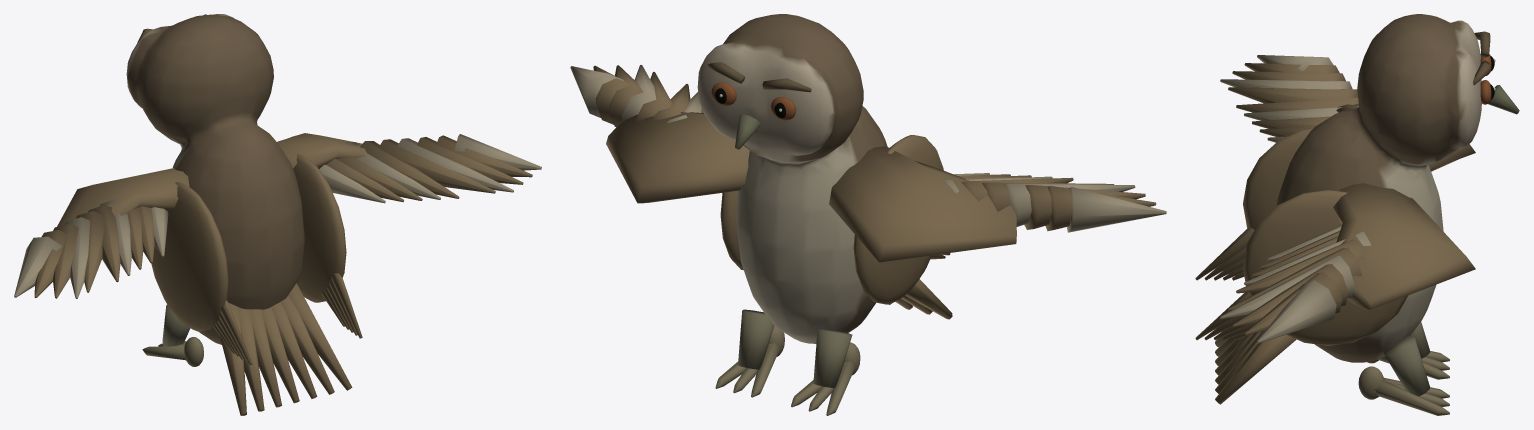
The model's file is animal_europeanowl.glb.
3 renders of one model, left to right at view 1: azimuth 30°, elevation 25°; view 2: azimuth 150°, elevation 25°; view 3: azimuth 270°, elevation 25°, orthographic. The views are drawn at different scales.
Visible parts, largest first — view 1: Body, FoldedWings, WingL, WingR, LegFL; view 2: Body, WingL, WingR, FoldedWings, LegFL, LegFR; view 3: Body, WingR, FoldedWings, WingL, LegFR, LegFL.
Boxes of the visible parts, box(x1,y1,x2,y2) form: Body: box(126, 14, 352, 415); FoldedWings: box(151, 154, 362, 365); WingL: box(14, 168, 189, 298); WingR: box(277, 133, 541, 203); LegFL: box(142, 304, 203, 366); Body: box(697, 14, 952, 343); WingL: box(829, 146, 1166, 262); WingR: box(570, 65, 749, 203); FoldedWings: box(720, 135, 950, 304); LegFL: box(791, 328, 860, 415); LegFR: box(715, 309, 784, 397); Body: box(1215, 14, 1519, 404); WingR: box(1220, 183, 1475, 343); FoldedWings: box(1195, 128, 1408, 345); WingL: box(1220, 55, 1475, 171); LegFR: box(1358, 336, 1449, 415); LegFL: box(1367, 321, 1449, 379).
Bounding box in the file's own units: 1.34 × 0.8026 × 0.6419.
